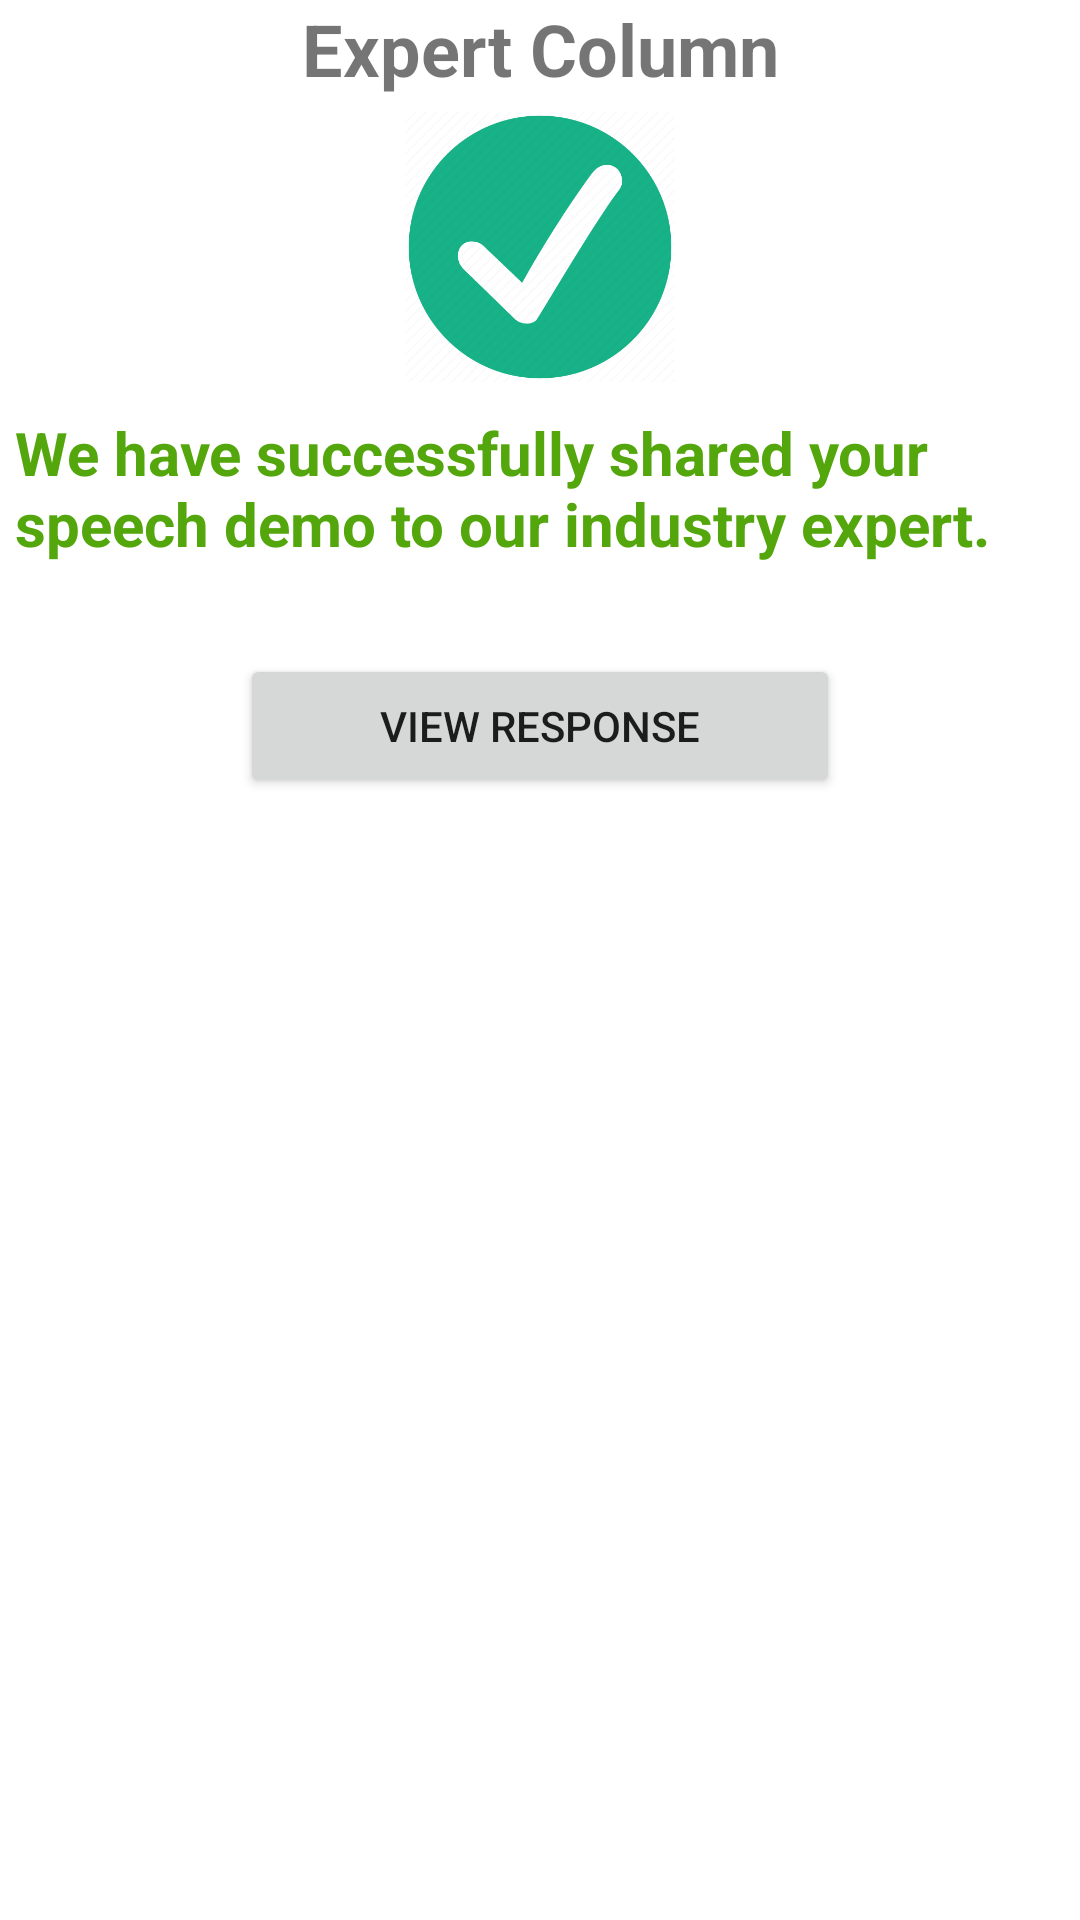

Where icons sit on this 1080 x 1920 app screen, as (x1, y1, x2, y2):
yes check: (408, 115, 672, 379)
